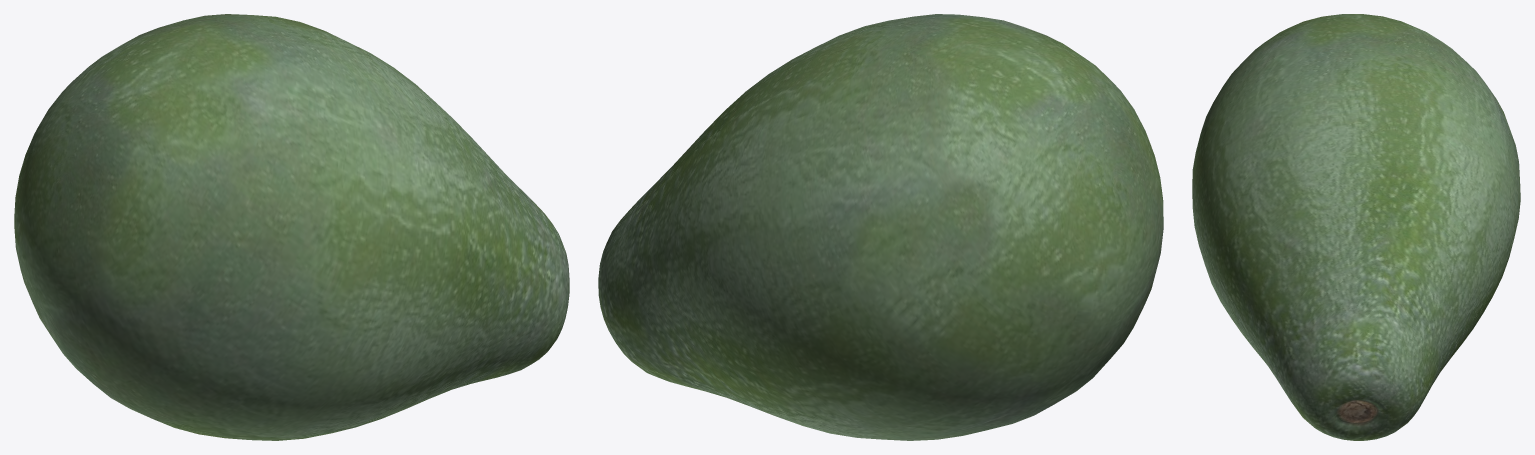
Rendered from green_avocado.fbx.
3 views of the same model, side by side, from view 1: azimuth 30°, elevation 25°; view 2: azimuth 150°, elevation 25°; view 3: azimuth 270°, elevation 25° (orthographic). The views are drawn at different scales.
Parts seen in each view (by area): view 1: GreenAvocadoPeel; view 2: GreenAvocadoPeel; view 3: GreenAvocadoPeel.
Part boxes in pixels (box(x1,y1,x2,y2)): GreenAvocadoPeel: box(14, 14, 569, 440); GreenAvocadoPeel: box(598, 14, 1163, 440); GreenAvocadoPeel: box(1192, 14, 1520, 440).
Size of what is drawn, in the model's own units: 10.76 by 7.72 by 7.98.
